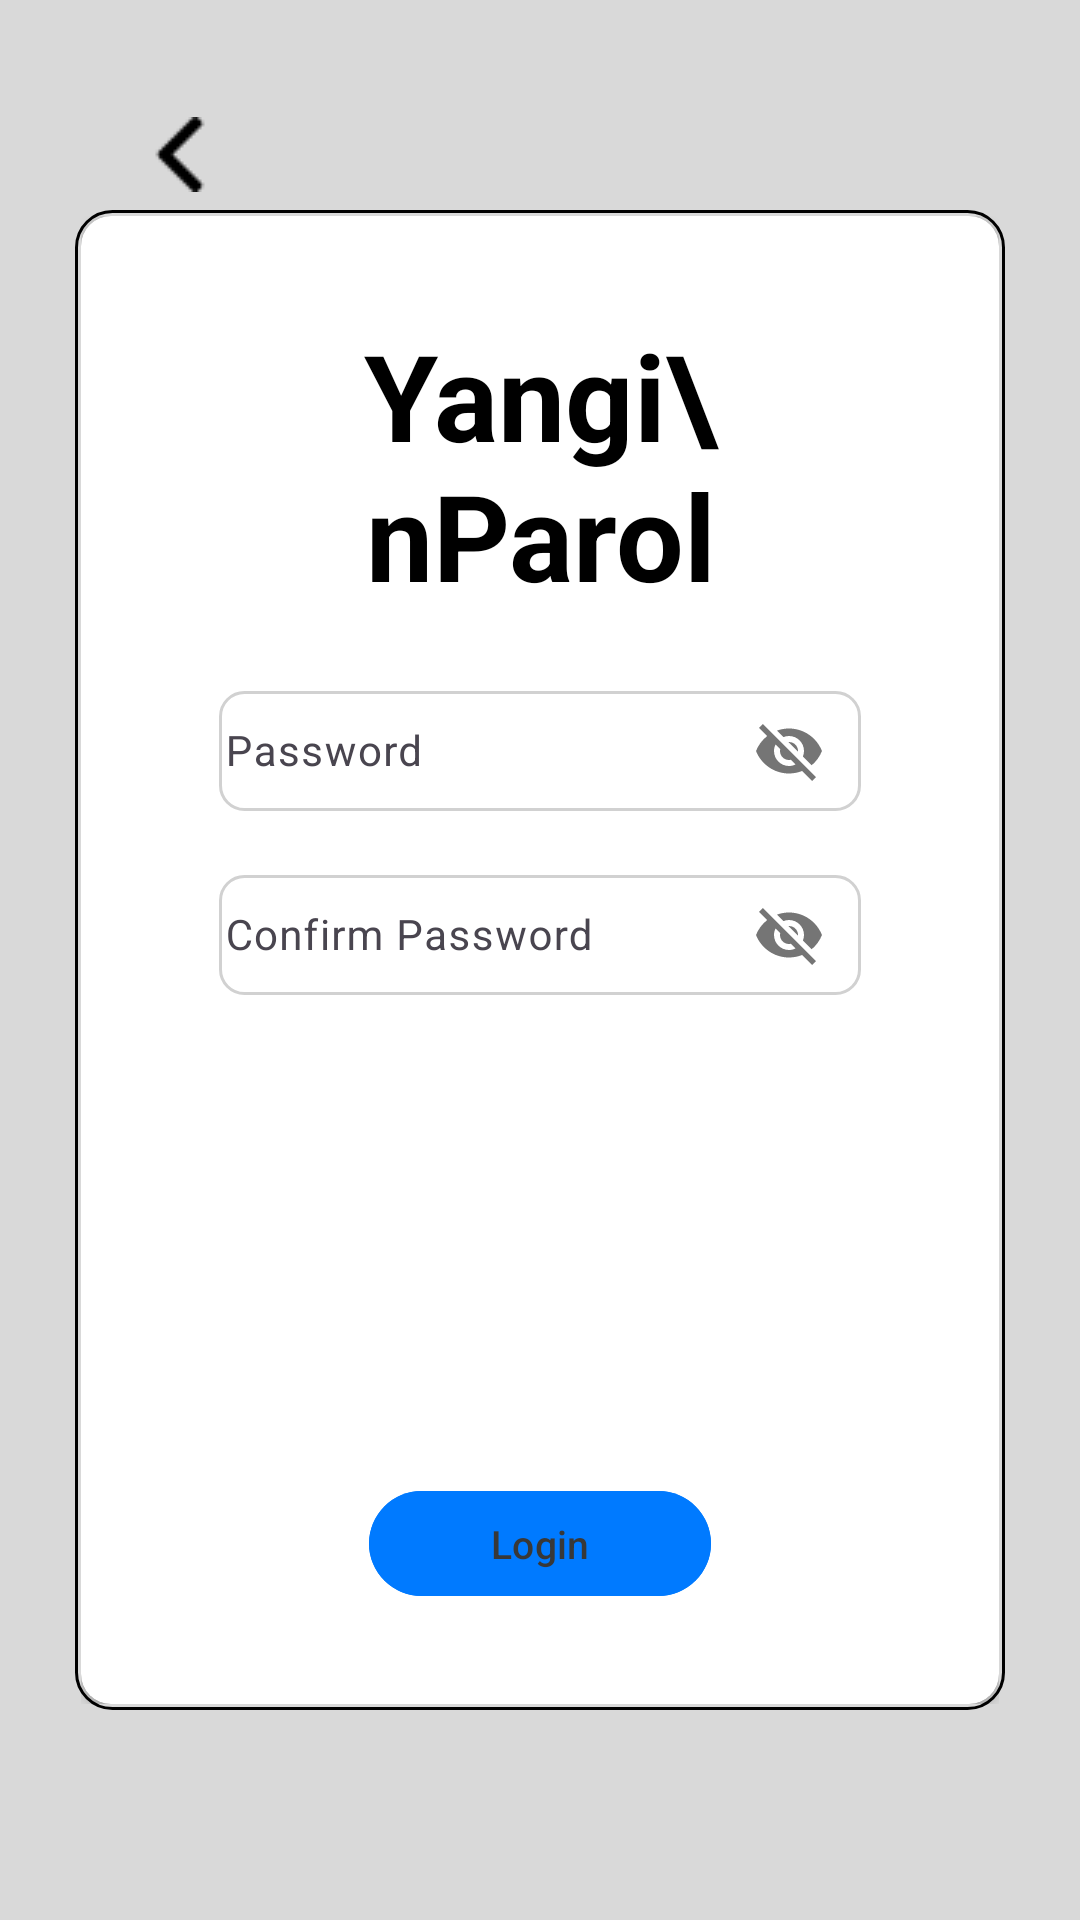

Icon click points for this 1080 x 1920 phone screenshot, format (x=x, y=y):
back: (x=180, y=154)
